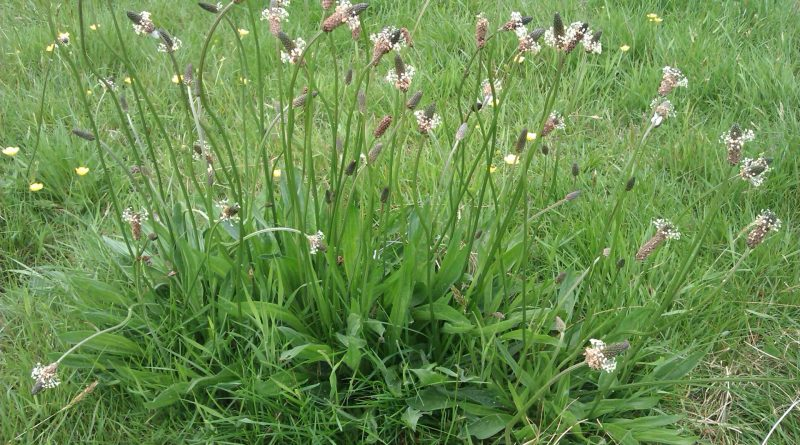buckhorn plantain: (46, 3, 541, 381), (448, 15, 770, 442)
